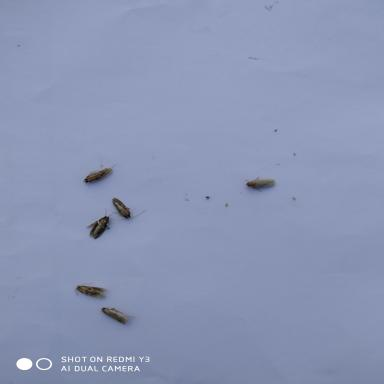pbw: (84, 208, 120, 242), (108, 196, 148, 221), (81, 163, 118, 189), (98, 305, 138, 325), (73, 281, 107, 300), (242, 175, 276, 193)
